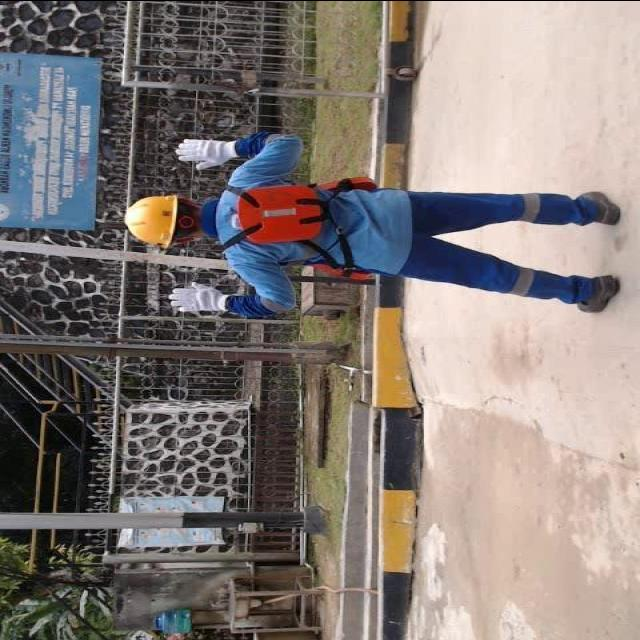helmet: (114, 188, 190, 250)
